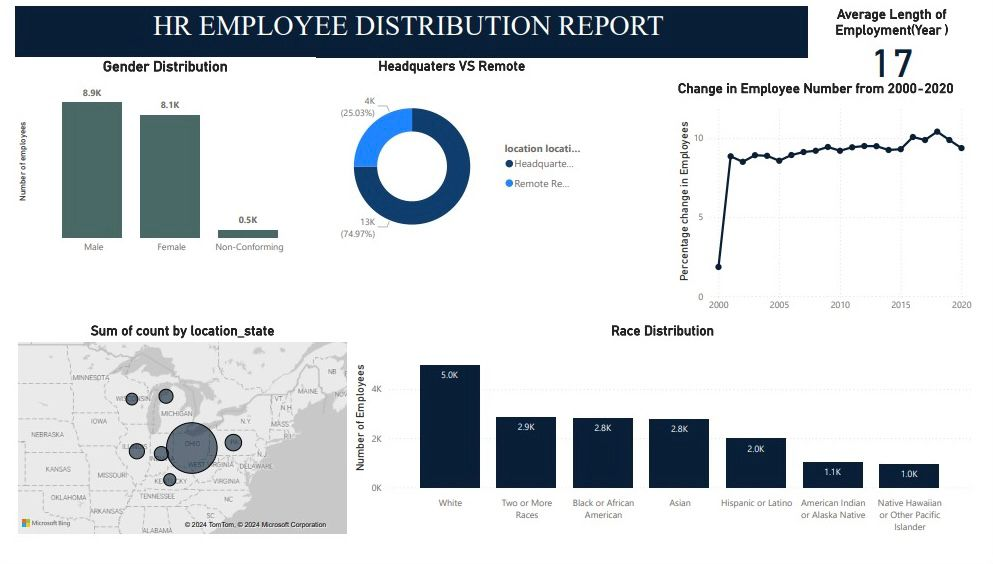

This screenshot's page, from the dashboard's own definition file:
{"tool":"powerbi","page":{"name":"Page 1","canvas":[1280,720],"ordinal":0},"visuals":[{"type":"textbox","box":[0,0,1058.3,68.9],"z":0},{"type":"card","title":"Average Length of Employment(Year )","fields":{"Values":["Sum(average length of employment.average_length_of_employment)"]},"box":[1058.3,0,221.7,99.1],"z":1000},{"type":"columnChart","title":"Gender Distribution","fields":{"Y":["Sum(gender.count)"],"Category":["gender.gender"]},"box":[0,68.9,401.5,270.4],"z":2000},{"type":"donutChart","title":"Headquaters VS Remote","fields":{"Y":["Sum(location.count)"],"Category":["location.location","location.location"]},"box":[401.5,68.9,362.8,268.8],"z":3000},{"type":"lineChart","title":"Change in Employee Number from 2000-2020","fields":{"Y":["Sum(empployee count.net_change_percent)"],"Category":["empployee count.year"]},"box":[878.5,99.1,401.5,317.5],"z":4000},{"type":"map","fields":{"Size":["Sum(location_state.count)"],"Category":["location_state.location_state"]},"box":[0,421.6,446.8,287.2],"z":5000},{"type":"clusteredColumnChart","title":"Race Distribution","fields":{"Y":["Sum(race count.count)"],"Category":["race count.race"]},"box":[446.8,421.6,833.2,287.2],"z":6000}]}

Visuals, with their boxes in screenshot pixels (x1, y1, x2, y2), scaled from the page's 1280x720 canvas onto the 993x564 screenshot:
textbox: (left=0, top=0, right=821, bottom=54)
"Average Length of Employment(Year )" card: (left=821, top=0, right=992, bottom=78)
"Gender Distribution" columnChart: (left=0, top=54, right=311, bottom=266)
"Headquaters VS Remote" donutChart: (left=311, top=54, right=593, bottom=265)
"Change in Employee Number from 2000-2020" lineChart: (left=682, top=78, right=992, bottom=326)
map - Sum(location_state.count) x location_state.location_state: (left=0, top=330, right=347, bottom=555)
"Race Distribution" clusteredColumnChart: (left=347, top=330, right=992, bottom=555)
